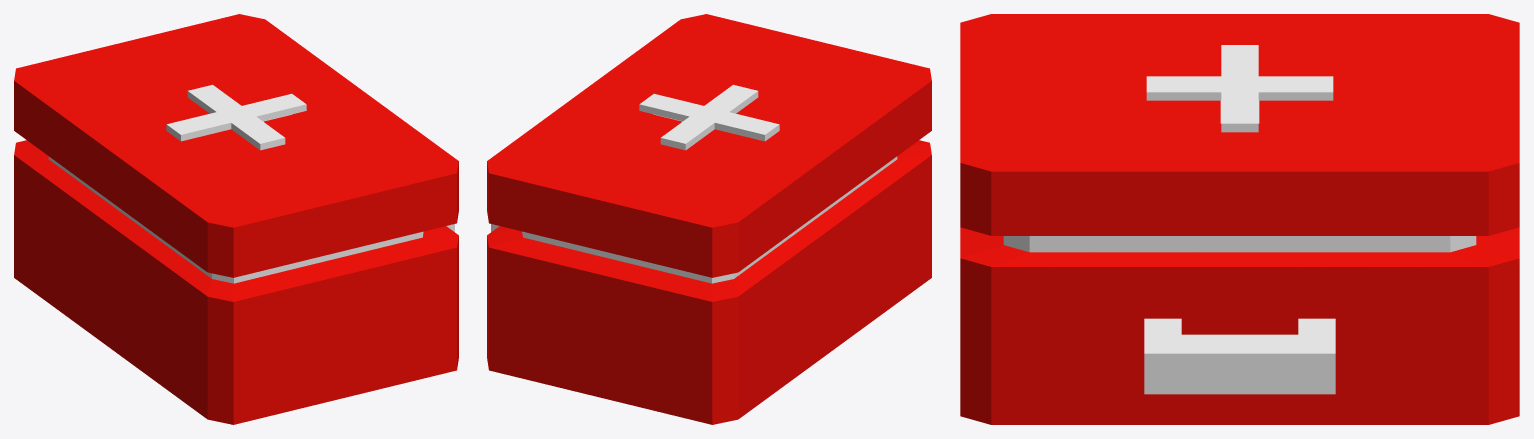
The model's file is Medkit_02.fbx.
3 views of the same model, side by side, from view 1: azimuth 30°, elevation 25°; view 2: azimuth 150°, elevation 25°; view 3: azimuth 270°, elevation 25° (orthographic). The views are drawn at different scales.
Visible parts, largest first — view 1: Cube, Cube.002, Cube.001; view 2: Cube, Cube.002, Cube.001; view 3: Cube, Cube.001, Cube.002.
Part boxes in pixels (x1=…): Cube: x1=14, y1=14, x2=458, y2=424; Cube.002: x1=166, y1=93, x2=306, y2=141; Cube.001: x1=187, y1=84, x2=285, y2=150; Cube: x1=487, y1=14, x2=931, y2=424; Cube.002: x1=639, y1=93, x2=779, y2=141; Cube.001: x1=660, y1=84, x2=758, y2=150; Cube: x1=960, y1=14, x2=1519, y2=424; Cube.001: x1=1146, y1=76, x2=1333, y2=100; Cube.002: x1=1221, y1=45, x2=1258, y2=132.
Size of the model in its own units: 489 by 310 by 600.
